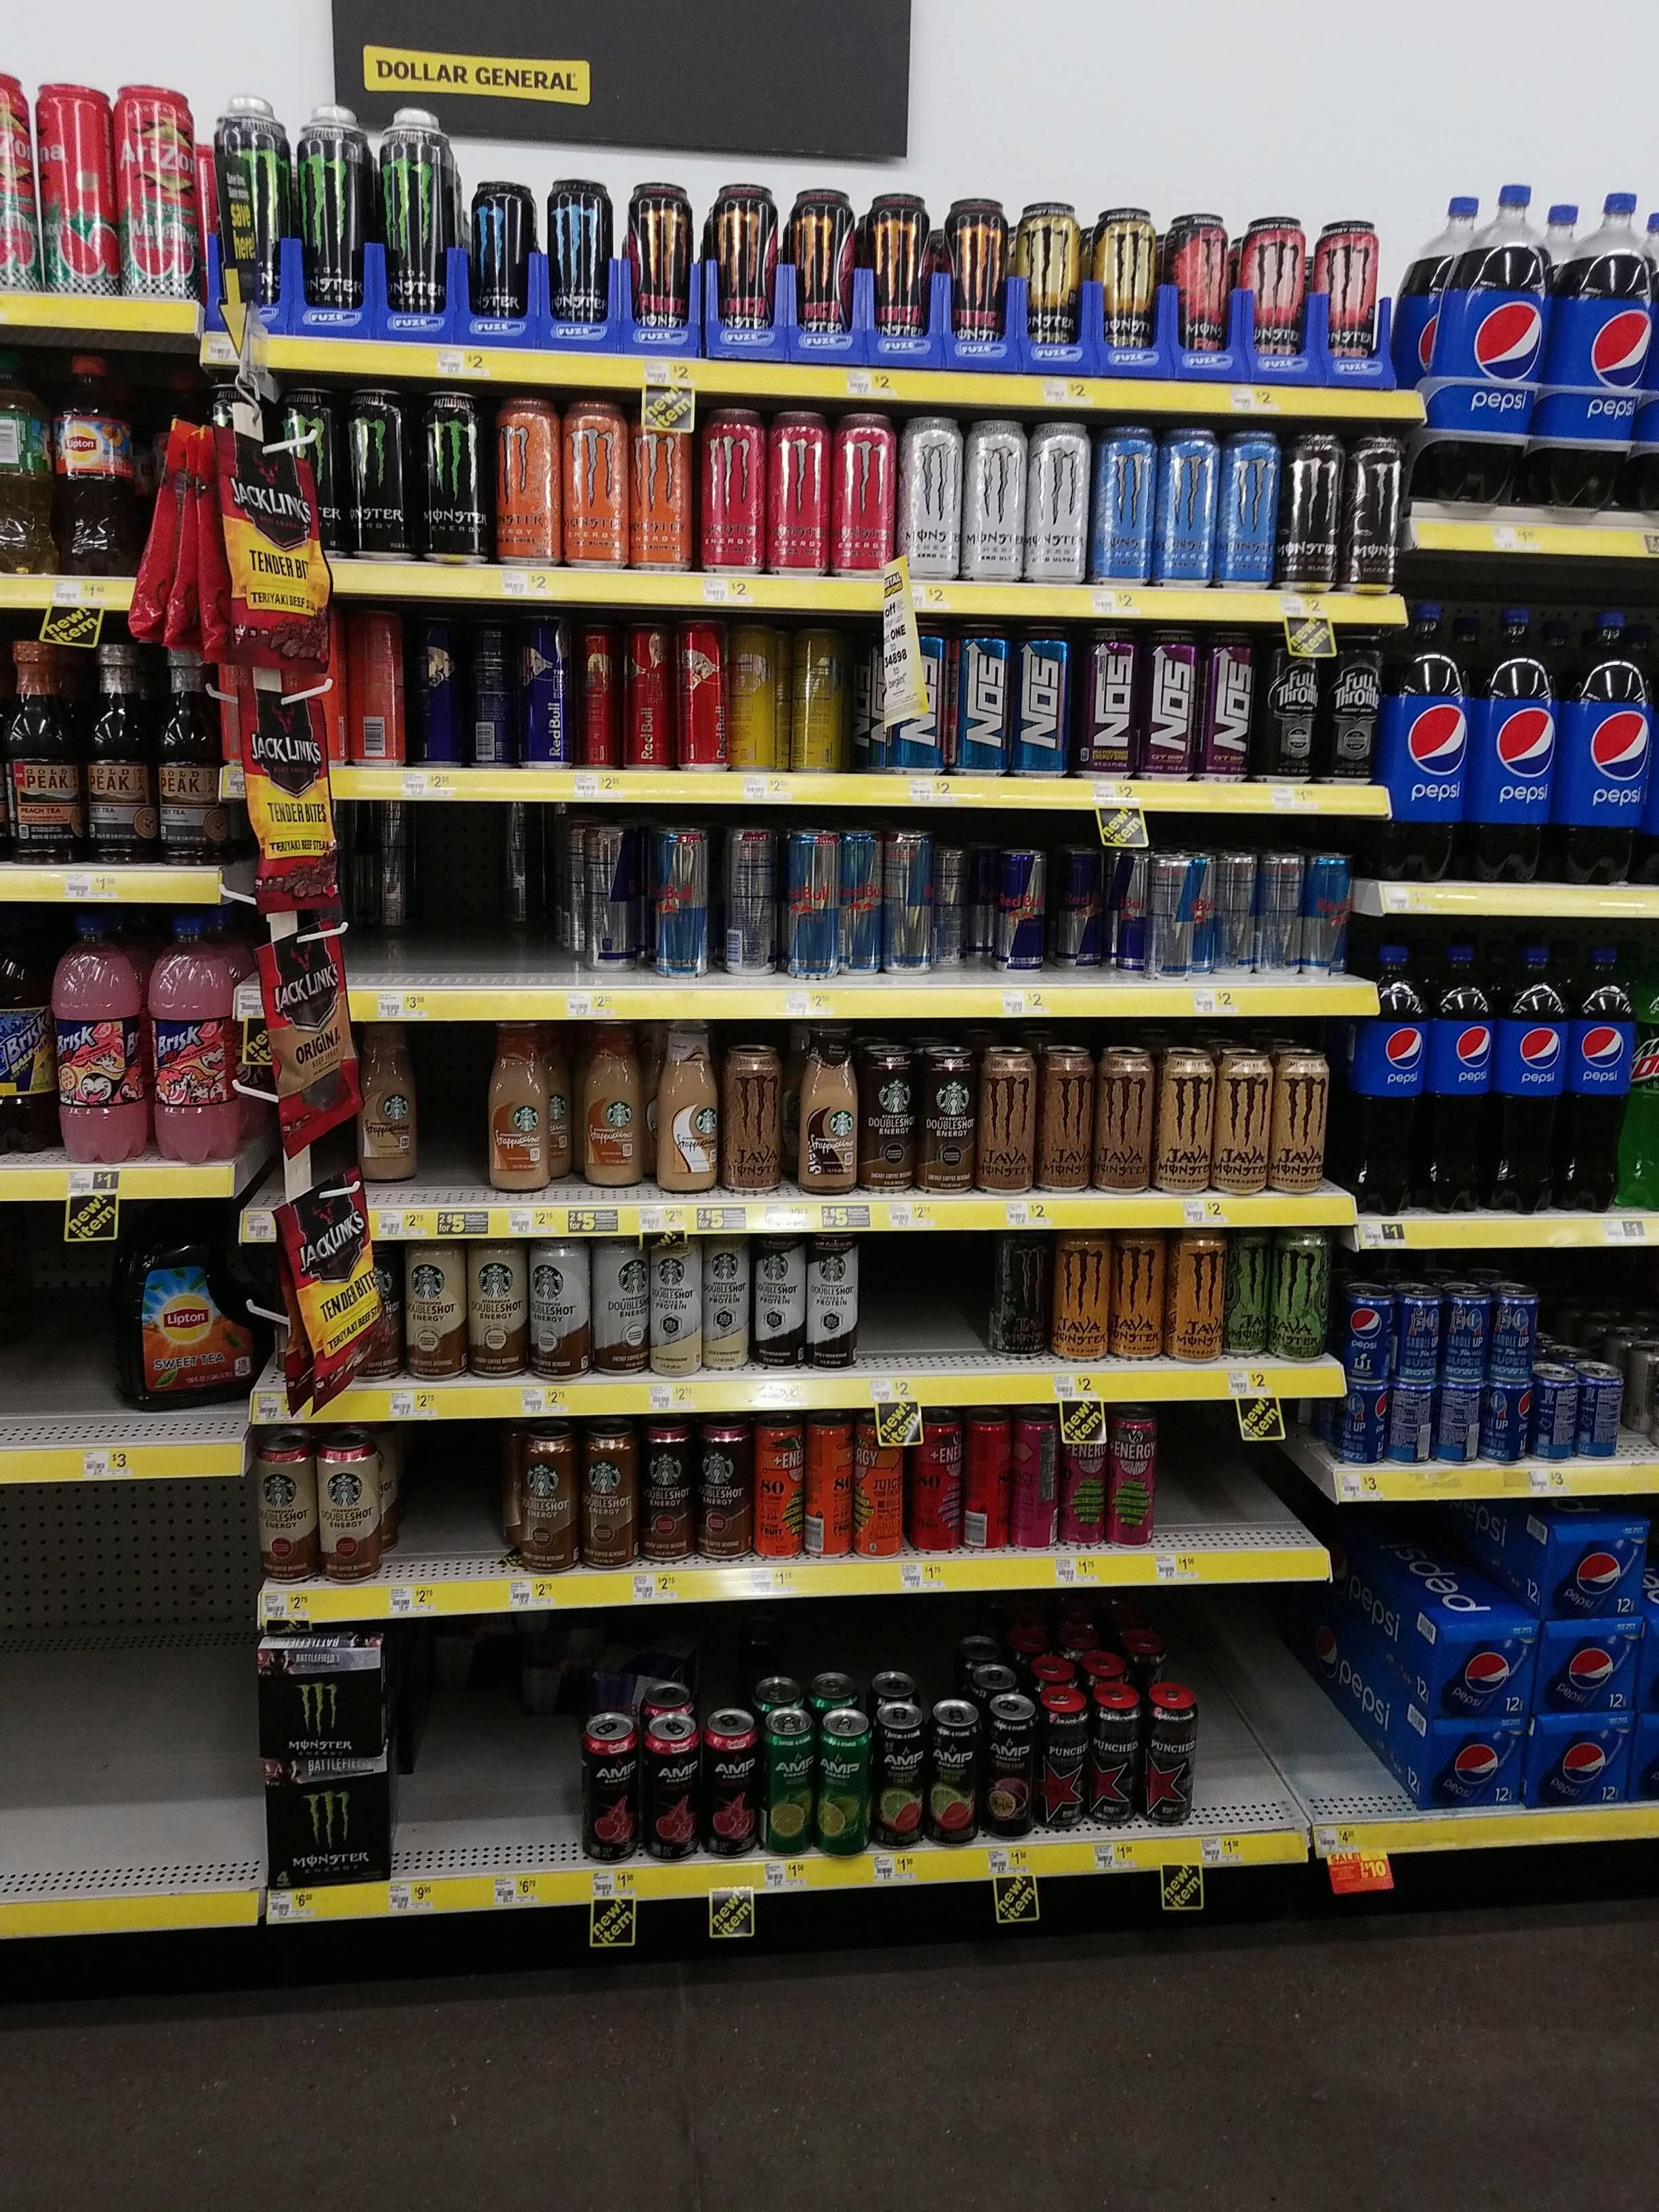empty: (0, 1698, 256, 1902), (1202, 1625, 1373, 1818), (390, 1693, 575, 1860), (2, 1252, 110, 1439), (450, 827, 545, 988), (399, 1425, 495, 1585), (349, 827, 443, 988), (1230, 1426, 1316, 1547), (856, 1245, 922, 1379), (922, 1244, 988, 1378), (1159, 1411, 1225, 1545)
